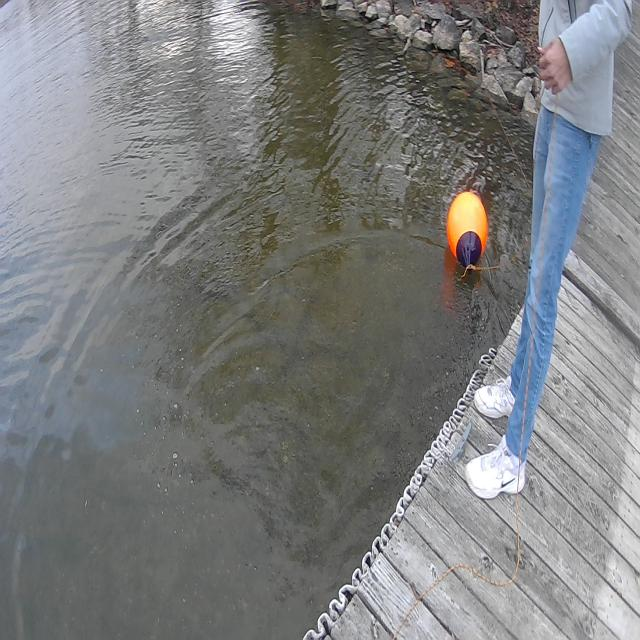Buoy: (443, 186, 492, 276)
